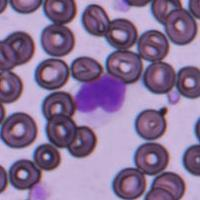M: (72, 72, 128, 123)
